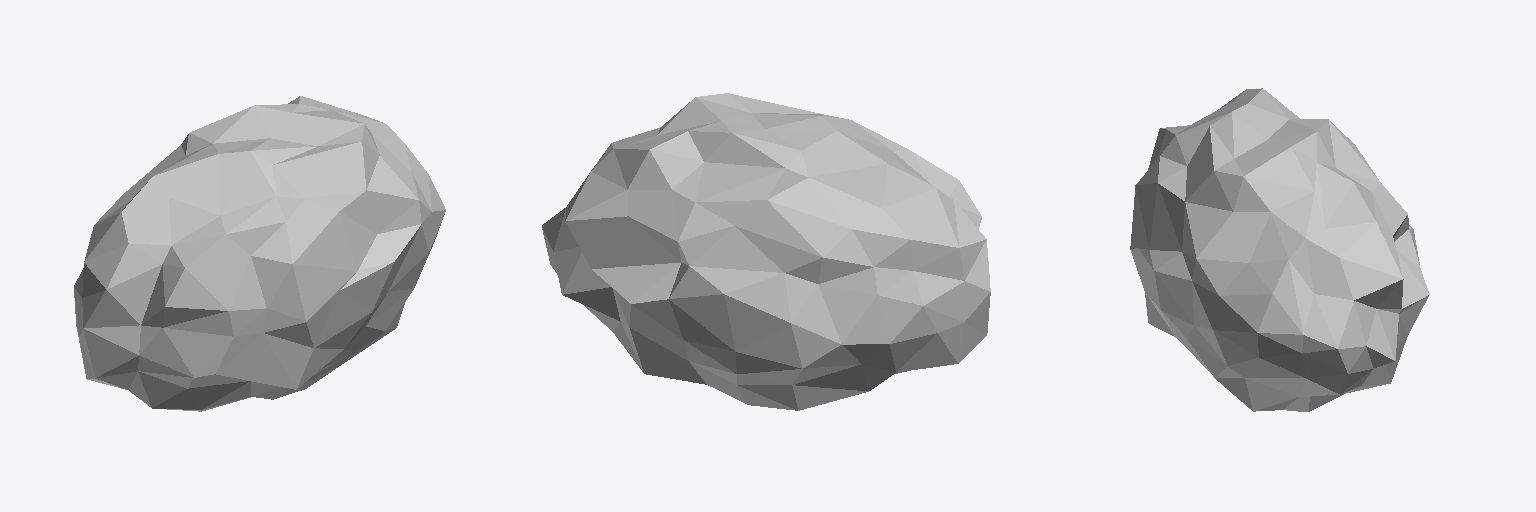
File: cloud.obj
3 views of the same model, side by side, from view 1: azimuth 30°, elevation 25°; view 2: azimuth 150°, elevation 25°; view 3: azimuth 270°, elevation 25° (orthographic).
Visible parts, largest first — view 1: Icosphere; view 2: Icosphere; view 3: Icosphere.
Boxes of the visible parts, box(x1,y1,x2,y2) form: Icosphere: box(74, 96, 445, 411); Icosphere: box(542, 93, 990, 410); Icosphere: box(1130, 88, 1429, 411).
Bounding box in the file's own units: 3.66 × 2.35 × 2.4.